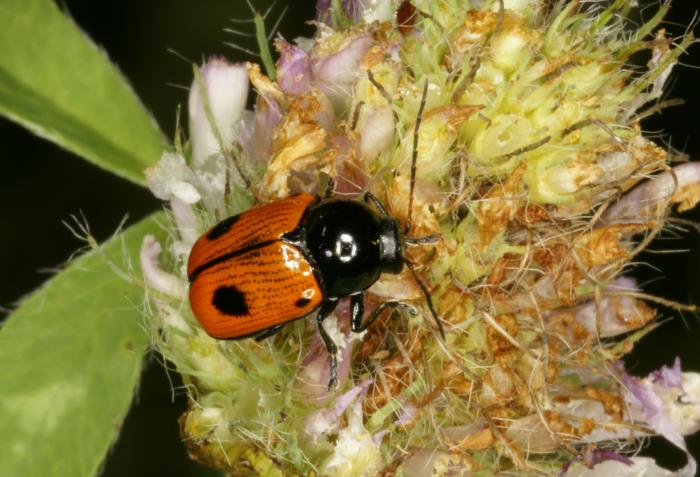Cryptocephalus_bipunctatus: (182, 74, 447, 388)
